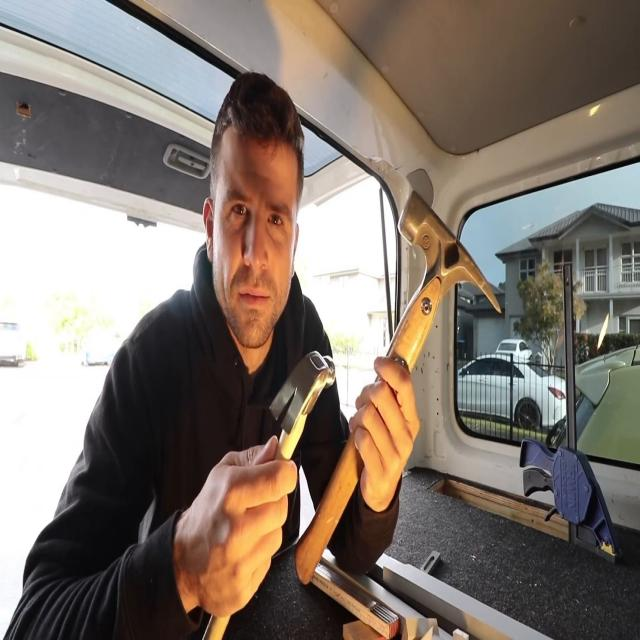hammer: (296, 191, 501, 583), (203, 351, 335, 640)
